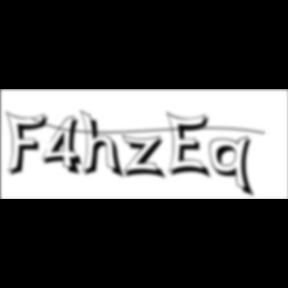4: (42, 115, 88, 179)
E: (166, 110, 216, 182)
F: (6, 110, 54, 178)
h: (80, 108, 128, 182)
q: (210, 135, 258, 200)
z: (122, 134, 170, 182)
